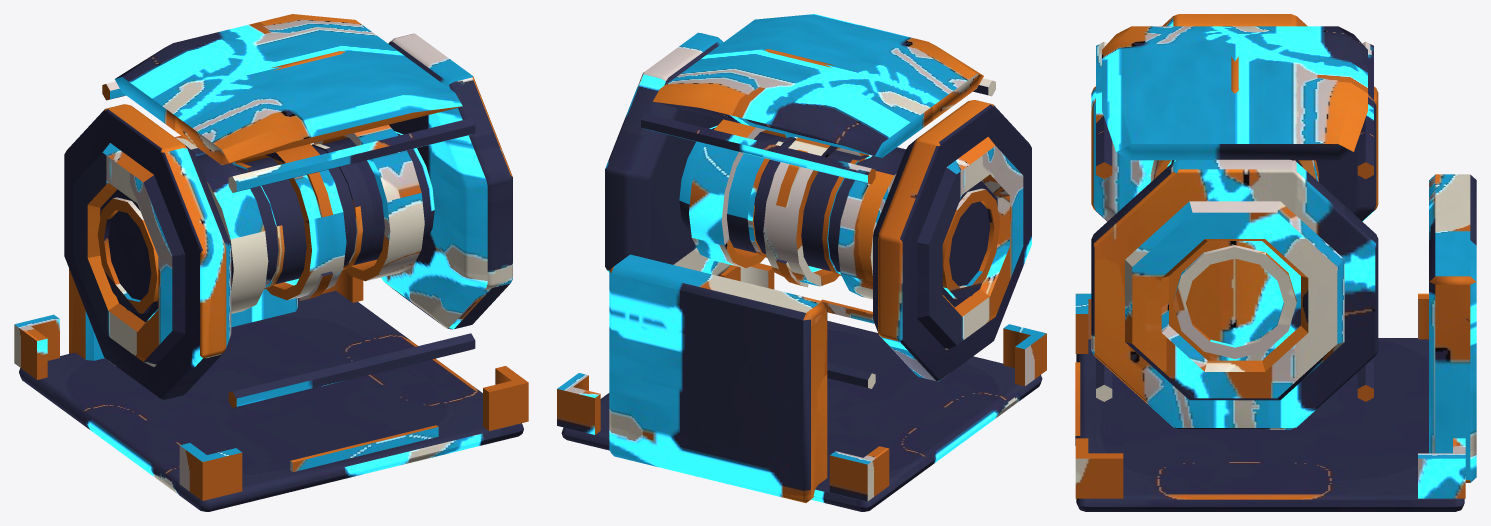
The model's file is R4X_Battery_LOD1.fbx.
3 renders of one model, left to right at view 1: azimuth 30°, elevation 25°; view 2: azimuth 150°, elevation 25°; view 3: azimuth 270°, elevation 25°, orthographic. The views are drawn at different scales.
Visible parts, largest first — view 1: R4X_Battery_LOD1; view 2: R4X_Battery_LOD1; view 3: R4X_Battery_LOD1.
Boxes of the visible parts, <box> form: R4X_Battery_LOD1: <box>14,14,528,511</box>; R4X_Battery_LOD1: <box>557,14,1046,511</box>; R4X_Battery_LOD1: <box>1075,14,1476,511</box>.
Bounding box in the file's own units: 0.5 × 0.516 × 0.5065.
